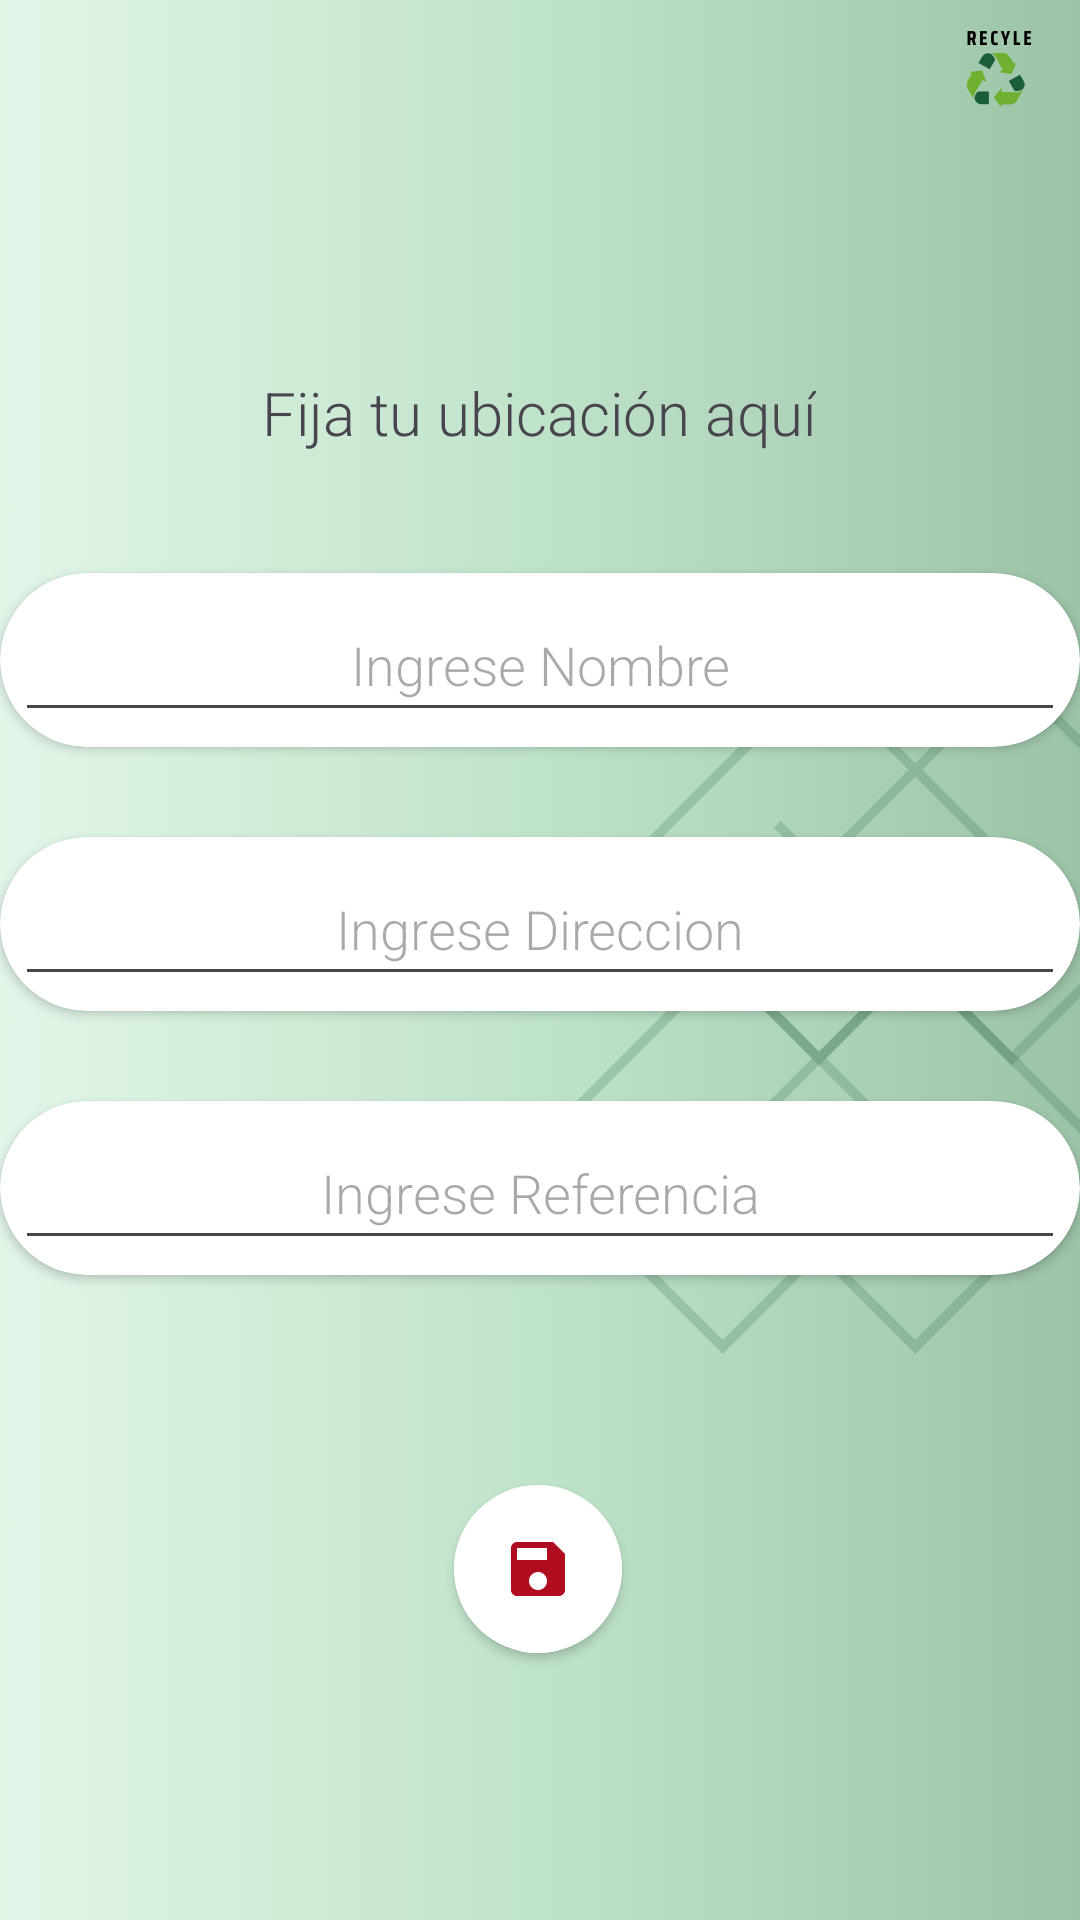

Where to tap for icons on this 1080×1920 app screen, as (x,y):
save: (538,1569)
